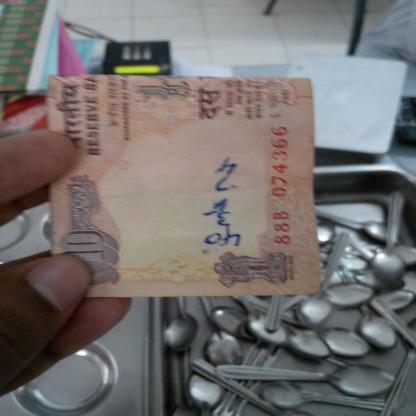Old10Front: (47, 74, 324, 297)
